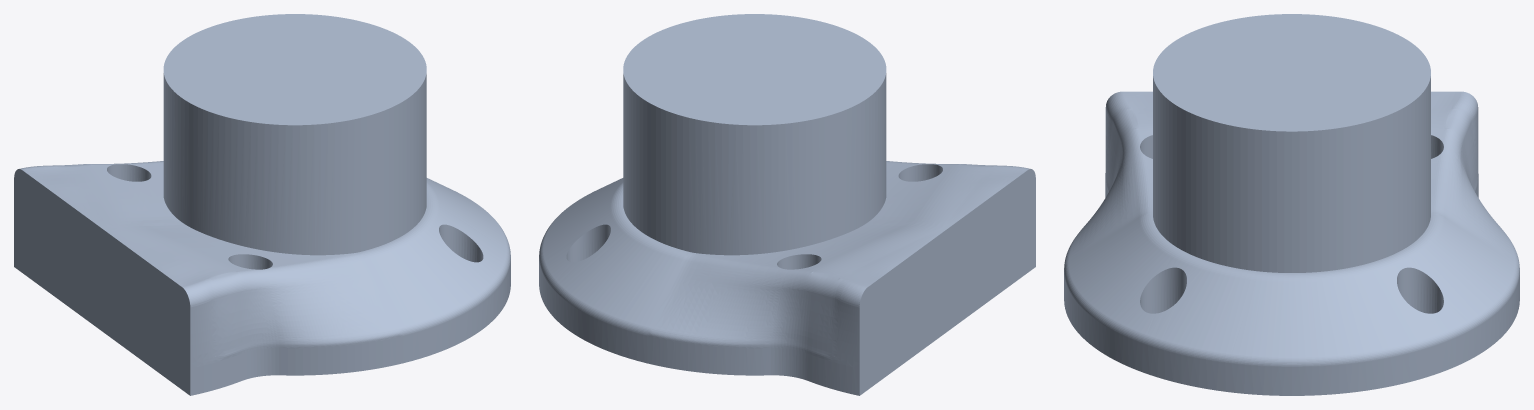
3 renders of one model, left to right at view 1: azimuth 30°, elevation 25°; view 2: azimuth 150°, elevation 25°; view 3: azimuth 270°, elevation 25°, orthographic. The views are drawn at different scales.
Visible parts, largest first — view 1: UArm-V3.6-Base-3-3-simplified; view 2: UArm-V3.6-Base-3-3-simplified; view 3: UArm-V3.6-Base-3-3-simplified.
Part boxes in pixels (left/top/right/bottom): UArm-V3.6-Base-3-3-simplified: left=14, top=14, right=510, bottom=395; UArm-V3.6-Base-3-3-simplified: left=539, top=14, right=1035, bottom=395; UArm-V3.6-Base-3-3-simplified: left=1064, top=14, right=1519, bottom=395.
Bounding box in the file's own units: 0.1082 × 0.1065 × 0.0585.
